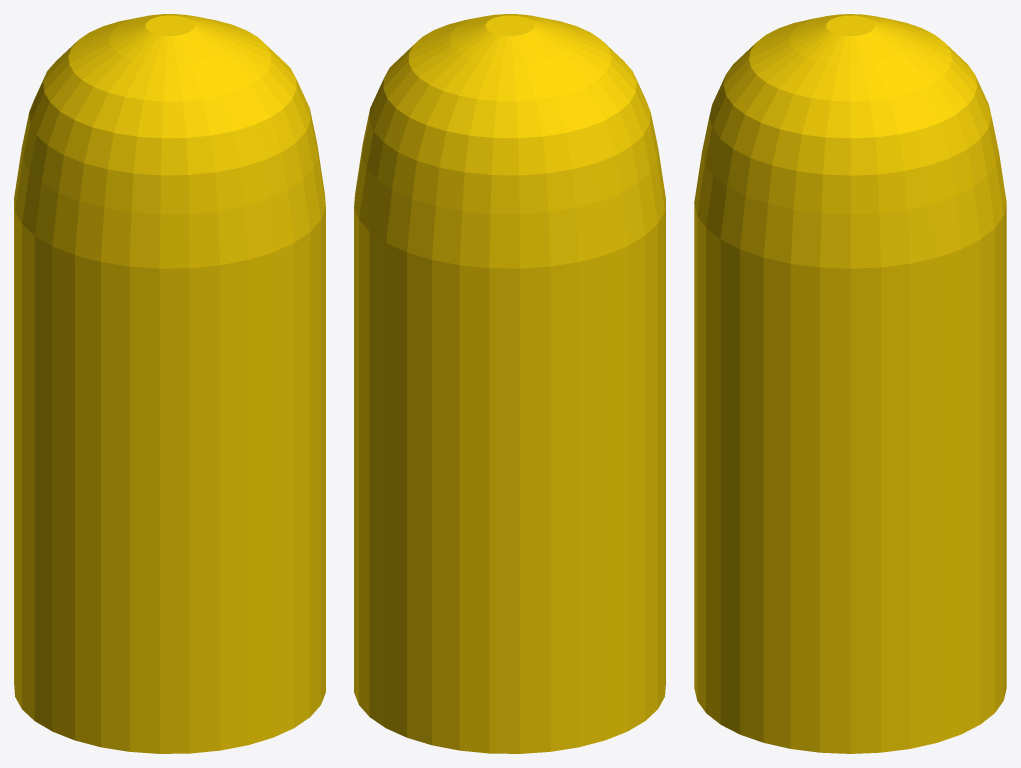
File: bullet.gltf
3 renders of one model, left to right at view 1: azimuth 30°, elevation 25°; view 2: azimuth 150°, elevation 25°; view 3: azimuth 270°, elevation 25°, orthographic.
Visible parts, largest first — view 1: Cylinder; view 2: Cylinder; view 3: Cylinder.
Part boxes in pixels (x1,y1,x2,y2): Cylinder: [14, 14, 325, 753]; Cylinder: [354, 14, 665, 753]; Cylinder: [694, 14, 1006, 753].
Bounding box in the file's own units: 0.4 × 0.9352 × 0.4.
